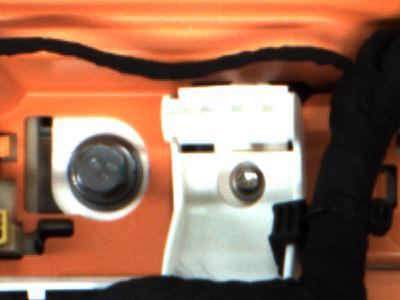nut_b: (63, 130, 155, 217)
